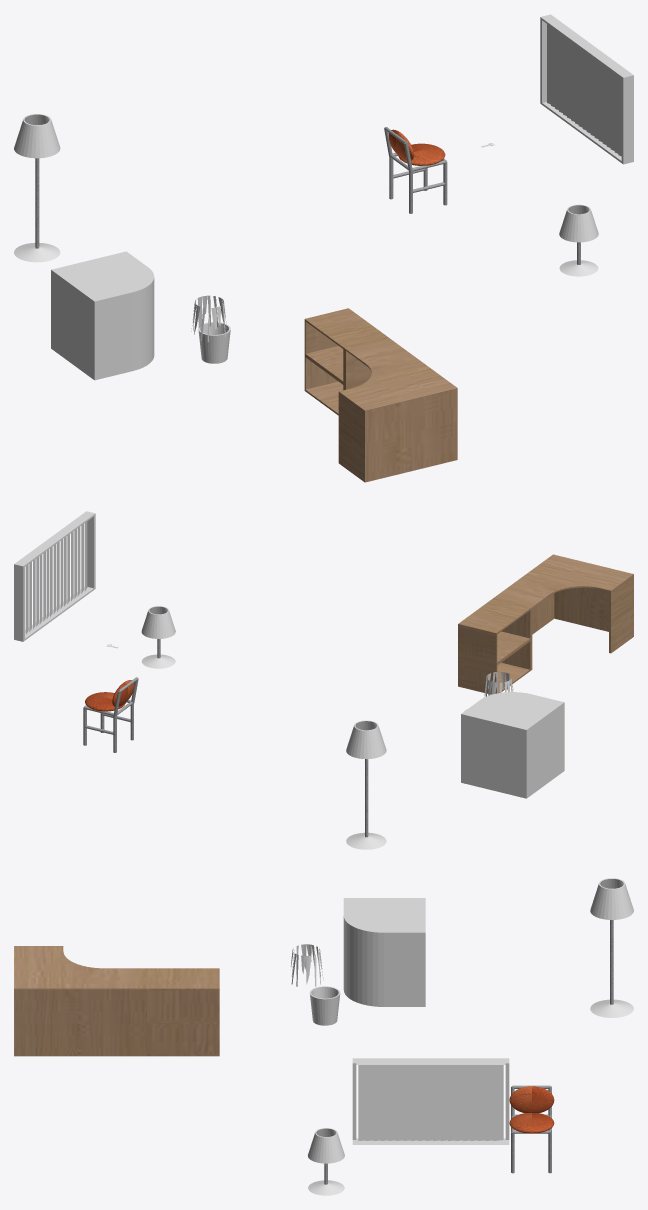
The model's file is shelf.fbx.
3 renders of one model, top to bottom at view 1: azimuth 30°, elevation 25°; view 2: azimuth 150°, elevation 25°; view 3: azimuth 270°, elevation 25°, orthographic. The views are drawn at different scales.
Parts seen in each view (by area): view 1: Cube, Cube.001, Cube.002, Cylinder.015, Cylinder.019, Cylinder.021, Cylinder.022, Cylinder.017, Sphere; view 2: Cube, Cube.001, Cube.002, Cylinder.015, Cylinder.019, Cylinder.017, Sphere, Cylinder.022; view 3: Cube, Cube.001, Cube.002, Cylinder.015, Cylinder.021, Cylinder.019, Sphere.001, Cube.022, Cylinder.022, Sphere, Cube.005, Cube.007 (+18 smaller).
Boxes of the visible parts, box(x1,y1,x2,y2) form: Cube: box(304, 308, 457, 482); Cube.001: box(51, 251, 154, 380); Cube.002: box(540, 14, 633, 164); Cylinder.015: box(14, 114, 60, 158); Cylinder.019: box(559, 204, 598, 242); Cylinder.021: box(198, 322, 230, 363); Cylinder.022: box(191, 295, 227, 341); Cylinder.017: box(14, 242, 60, 262); Sphere: box(398, 143, 445, 165); Cube: box(458, 554, 633, 694); Cube.001: box(461, 692, 564, 798); Cube.002: box(14, 511, 95, 641); Cylinder.015: box(346, 720, 386, 759); Cylinder.019: box(141, 606, 175, 638); Cylinder.017: box(346, 832, 386, 849); Sphere: box(85, 692, 125, 711); Cylinder.022: box(484, 672, 513, 697); Cube: box(14, 946, 219, 1056); Cube.001: box(343, 898, 425, 1006); Cube.002: box(352, 1058, 509, 1144); Cylinder.015: box(590, 878, 633, 919); Cylinder.021: box(309, 986, 340, 1025); Cylinder.019: box(307, 1128, 344, 1163); Sphere.001: box(509, 1086, 554, 1113); Cube.022: box(493, 1065, 503, 1140); Cylinder.022: box(290, 944, 323, 986); Sphere: box(509, 1113, 554, 1133); Cube.005: box(365, 1065, 373, 1140); Cube.007: box(380, 1065, 388, 1140).
Size of the model in its own units: 1584 by 470 by 1659.
